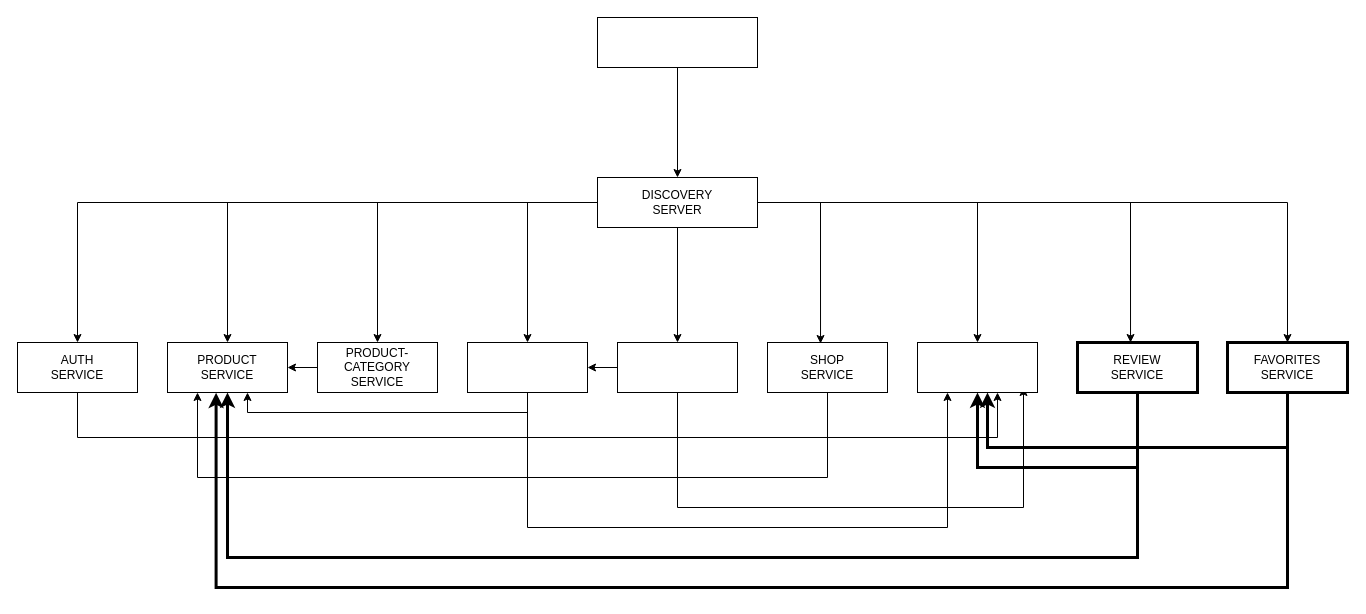
The diagram is 1366 pixels wide and 614 high, and some of its shapes have lost their labels. The shapes that lost their labels are listed below. From the top down, each one's box as (x1, y1, x2, y2) in pixels, then its label:
(596, 16, 758, 68): ZUUL SERVER
(466, 342, 588, 392): CART SERVICE
(616, 342, 738, 392): ORDER SERVICE
(916, 342, 1038, 392): CUSTOMER SERVICE
